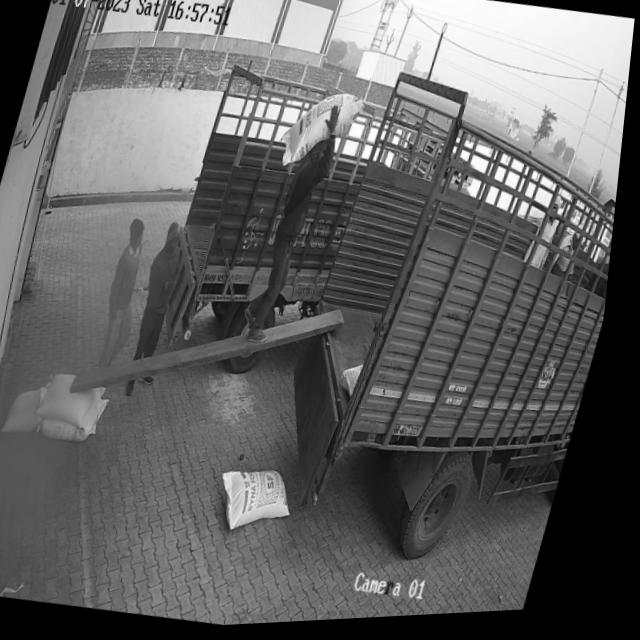sack: (276, 87, 363, 181), (217, 463, 312, 544), (40, 368, 117, 433), (43, 389, 117, 446), (9, 381, 61, 439)
